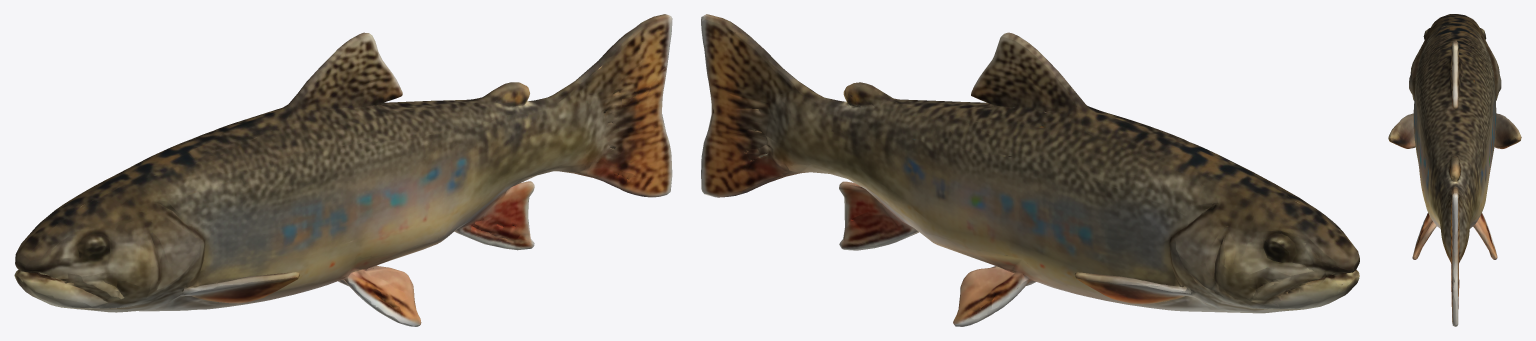
The model's file is brook-trout-v18.glb.
The picture shows the model from 3 angles, left to right: view 1: azimuth 30°, elevation 25°; view 2: azimuth 150°, elevation 25°; view 3: azimuth 270°, elevation 25°; orthographic projection. The views are drawn at different scales.
Visible parts, largest first — view 1: geometry_0; view 2: geometry_0; view 3: geometry_0.
Boxes of the visible parts, x1=… form: geometry_0: x1=14, y1=14, x2=672, y2=326; geometry_0: x1=701, y1=14, x2=1359, y2=326; geometry_0: x1=1388, y1=14, x2=1521, y2=326.
Size of the model in its own units: 0.3497 by 0.1427 by 0.0832.
Materials: 1 (1 with a texture image).
